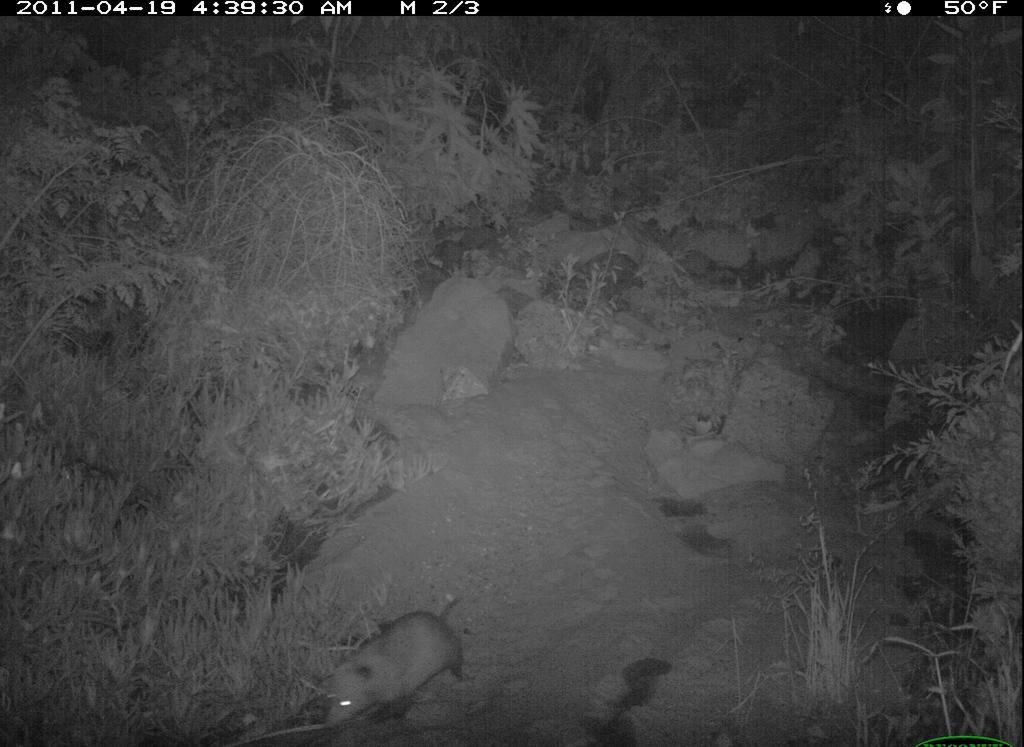opossum: (295, 600, 507, 740)
